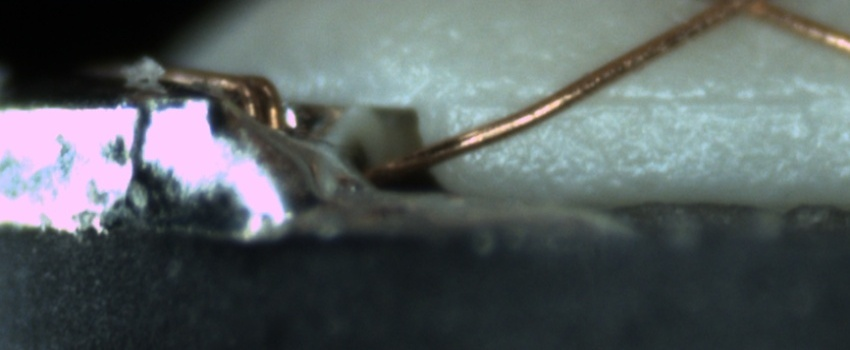CL: (696, 1, 786, 30)
DL: (437, 75, 850, 139)
TE: (163, 64, 292, 141)
